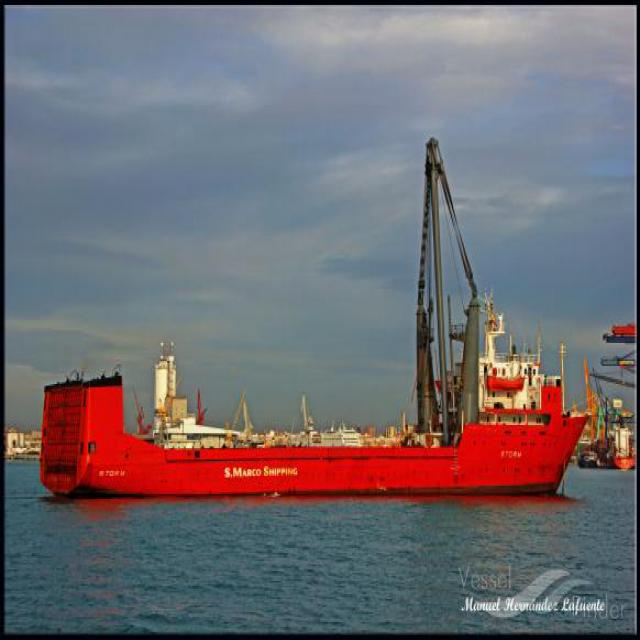OCR: (220, 461, 300, 484)
